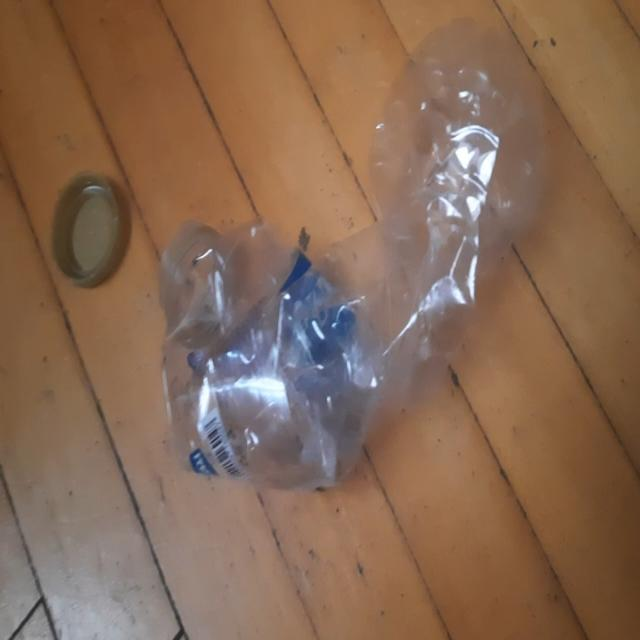Plastic: (160, 36, 542, 492)
